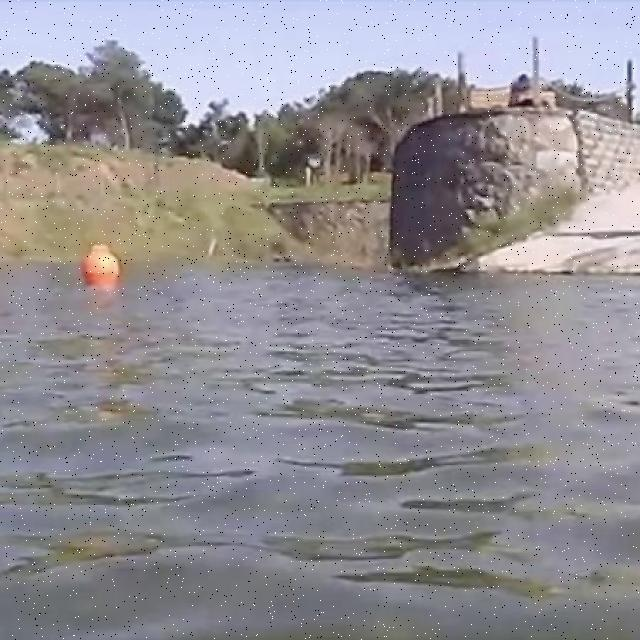buoy: (85, 240, 116, 296)
